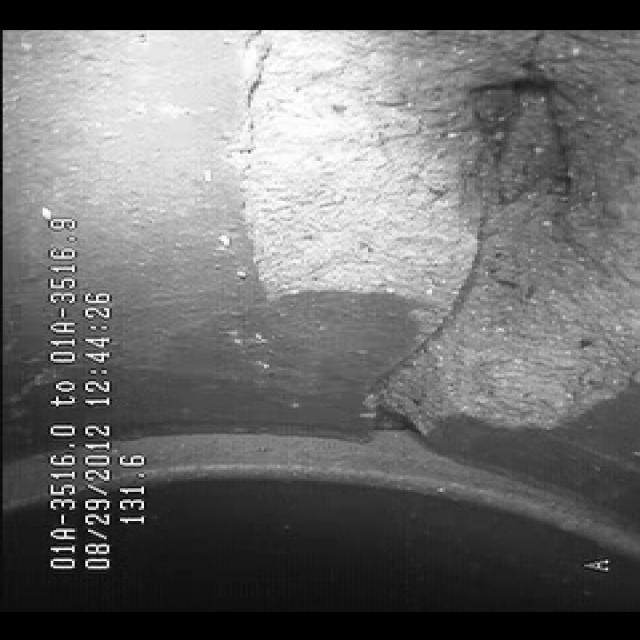Fracture: (280, 61, 586, 444)
